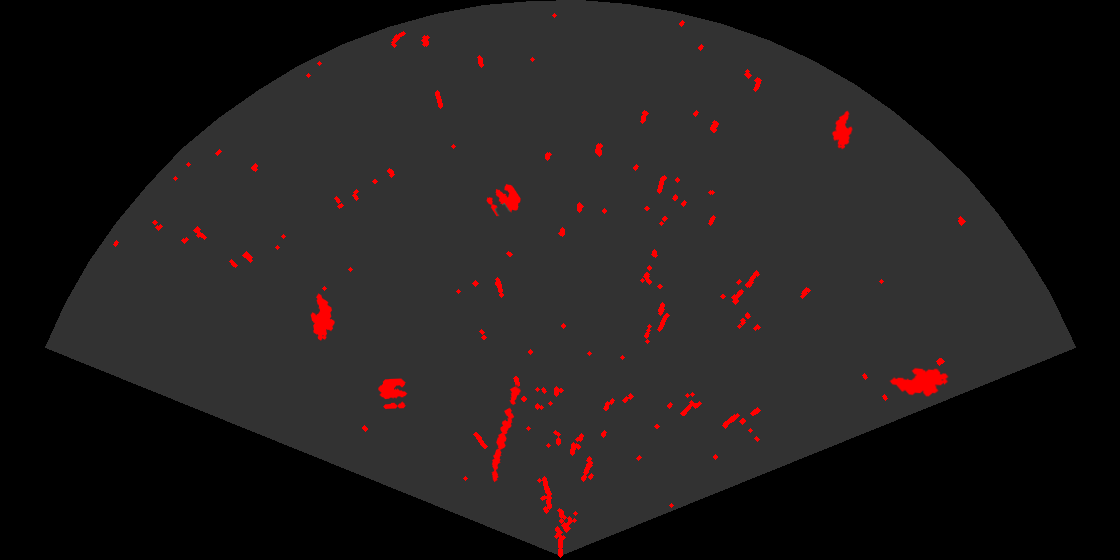AUV: (888, 366, 950, 398), (309, 292, 336, 342), (830, 109, 854, 151)
ball: (485, 182, 522, 218), (377, 377, 409, 411)
chain: (490, 384, 522, 484)
